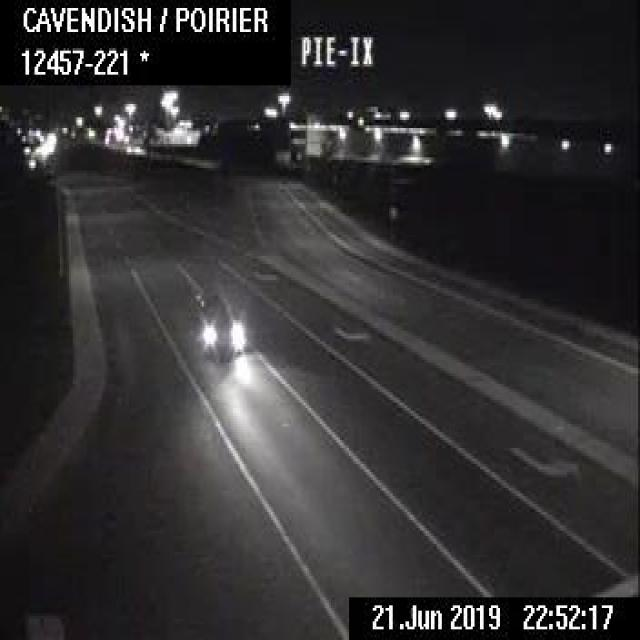vehicle: (196, 296, 246, 357)
